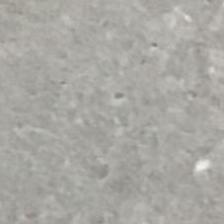Non_Crack: (9, 7, 217, 221)
